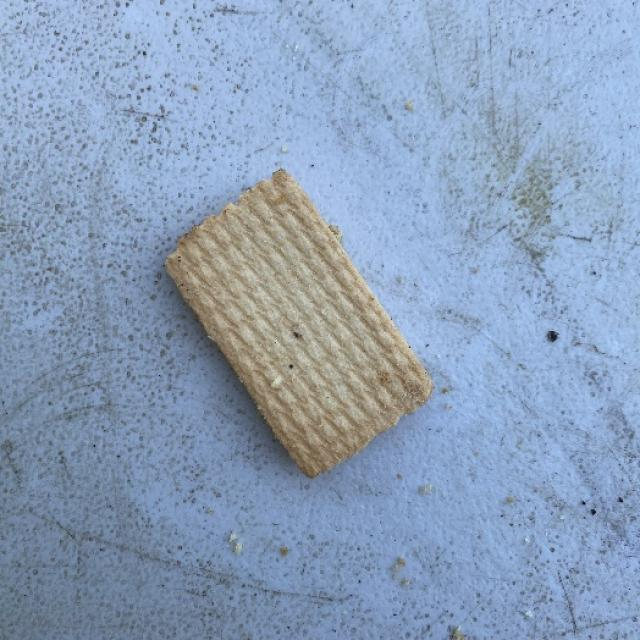wet: (161, 167, 427, 478)
